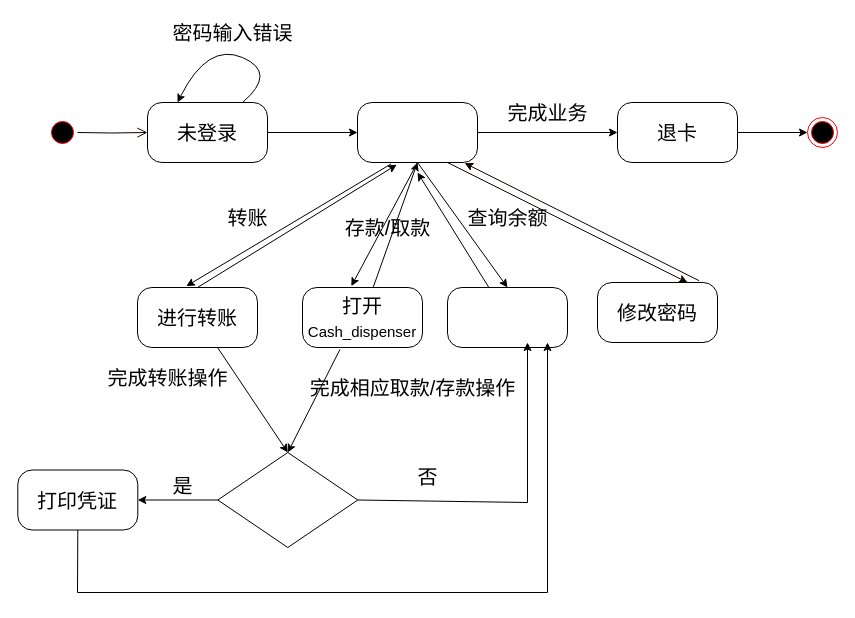
The diagram is 855 pixels wide and 618 high, and some of its shapes have lost their labels. The centre of each missing label's shape, as x and y in pixels:
是否打印凭证: point (287, 500)
显示余额: point (507, 317)
选择服务: point (417, 132)
